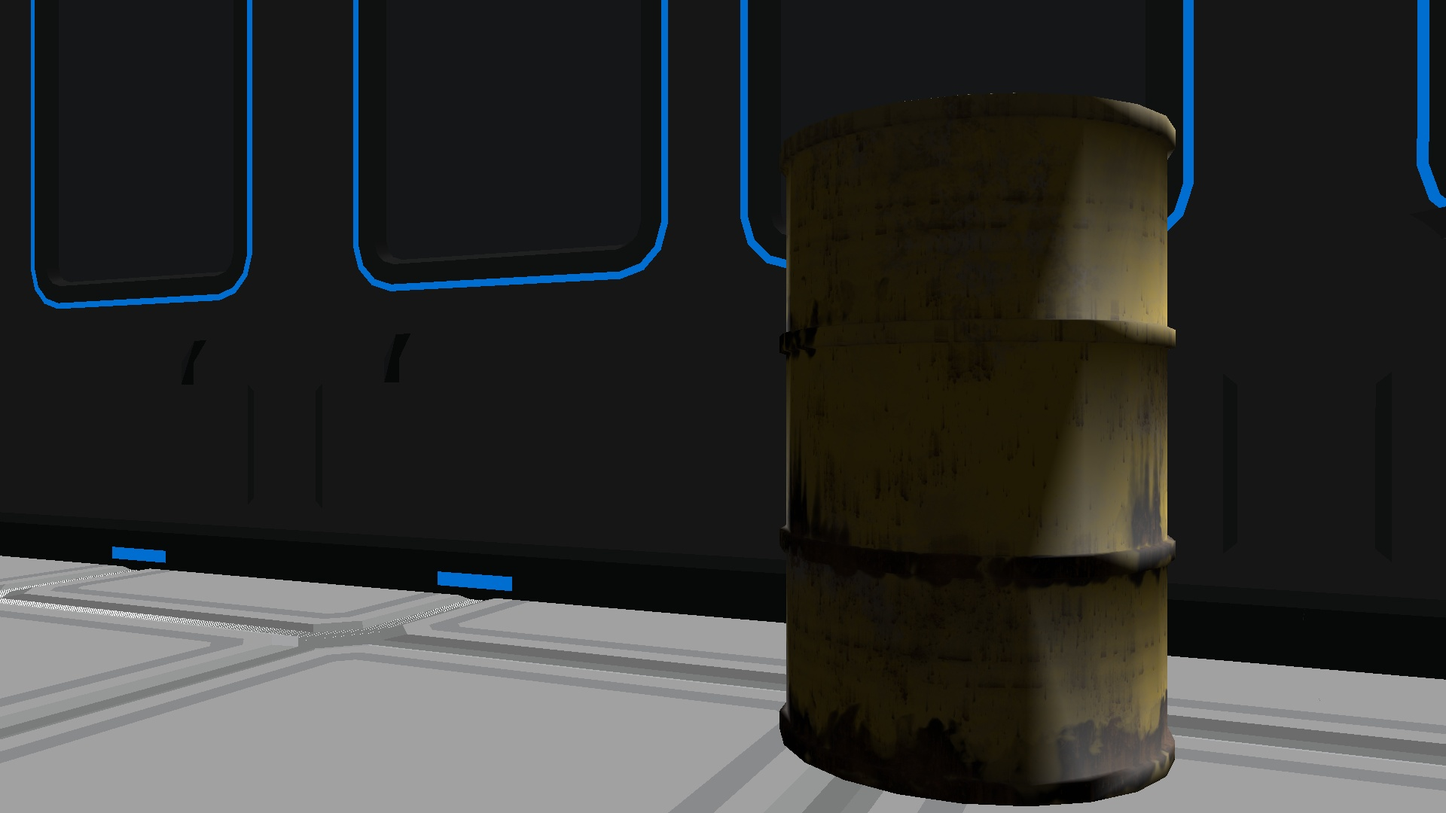toxic barrel: (776, 92, 1175, 807)
